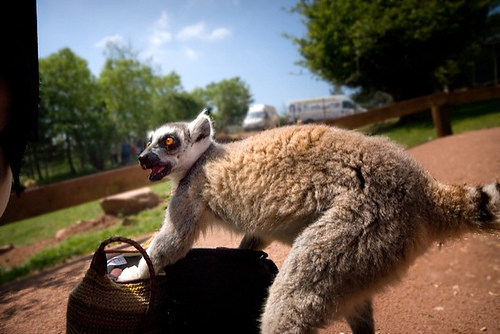cat: (116, 105, 499, 333)
